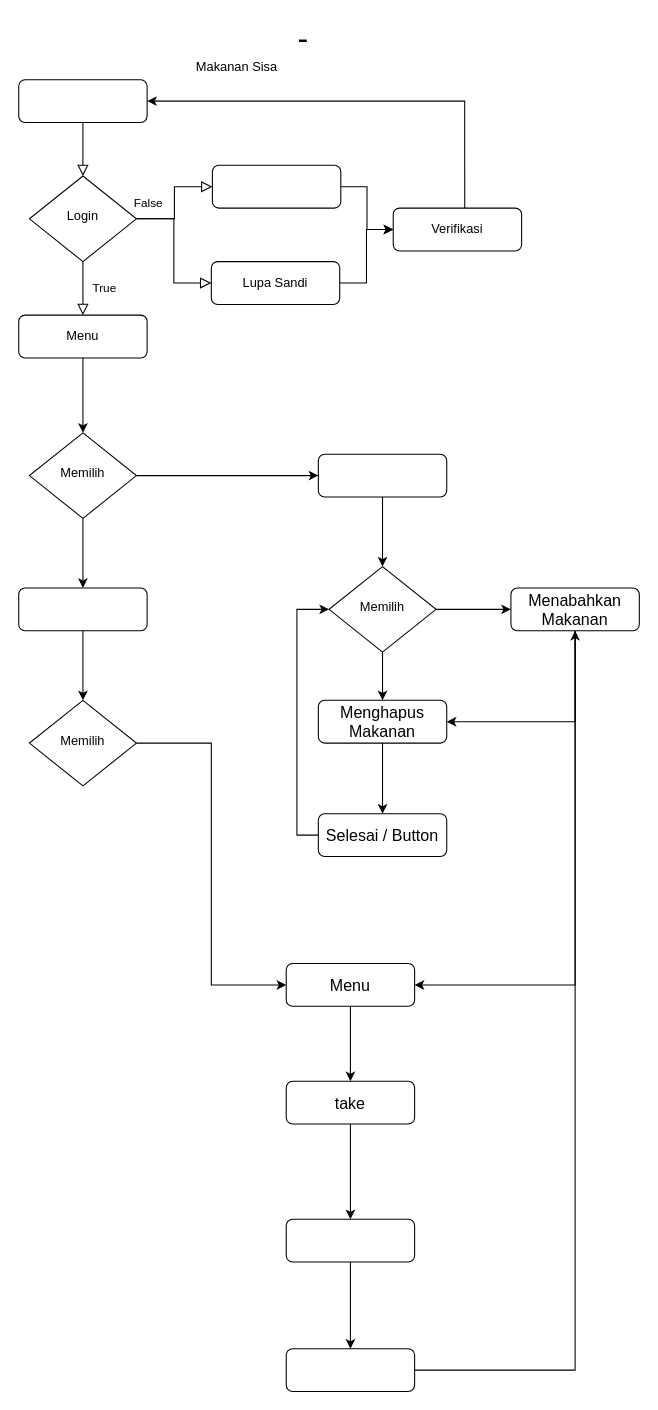
Image size: 658x1410. Some labels were removed from this diagram. Each missing label, with the centre of its shape:
Halaman Page: (82,101)
Penjual Makan: (382,475)
Rating: (350,1240)
Register: (276,186)
Resto: (82,609)
Selesai: (350,1370)
